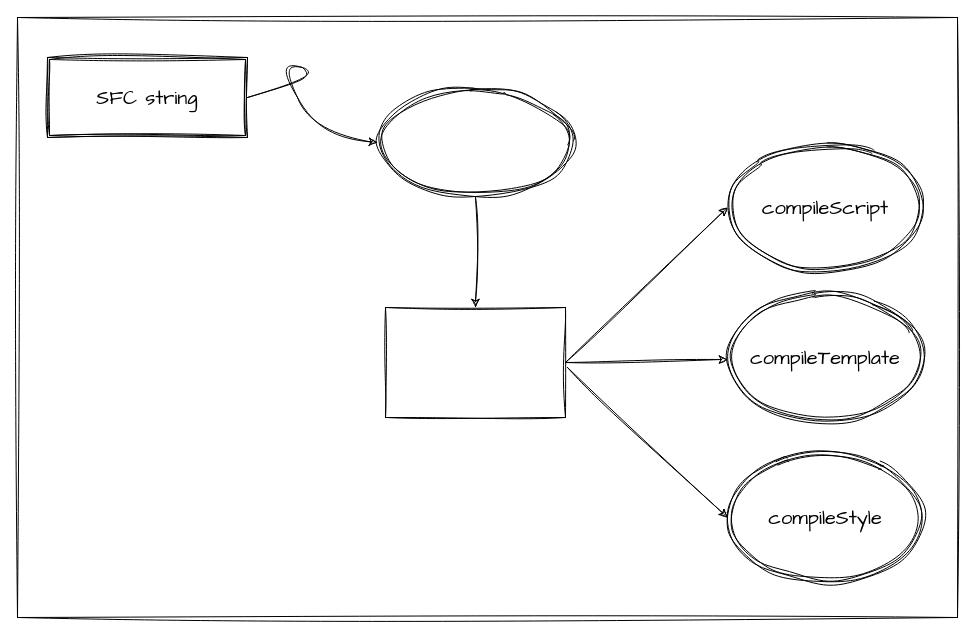
This 975x635 diagram has some shape labels left out. The shapes that lost their labels are listed below. From the top down, each one's centre as x and y in pixels, then its label:
point 475,142: parse
point 475,362: SFCDescriptor
